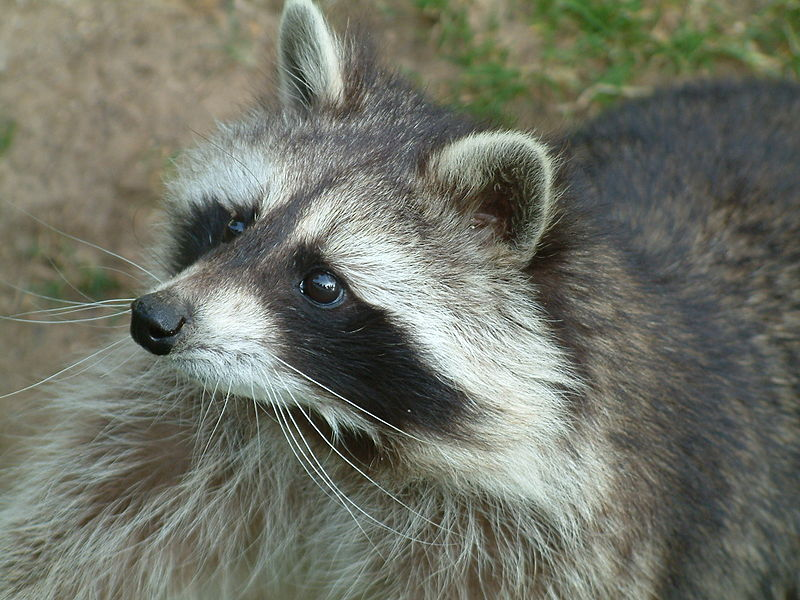raccoon: (71, 5, 800, 591)
